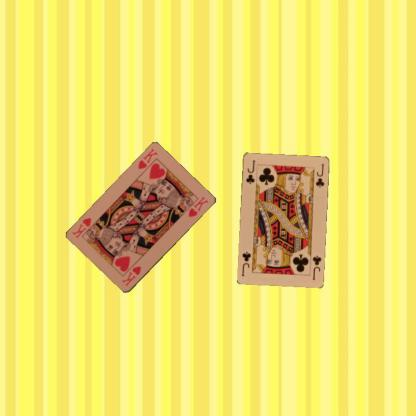Jc: (243, 157, 256, 185), (310, 252, 322, 281)
Kh: (135, 146, 159, 172), (119, 263, 142, 288)
